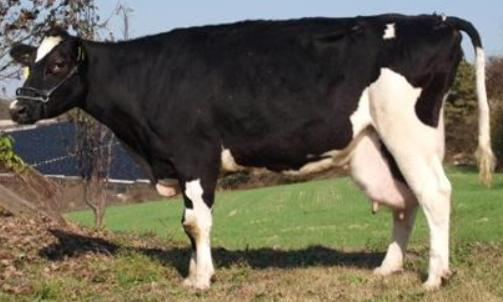cow: (10, 12, 497, 292)
